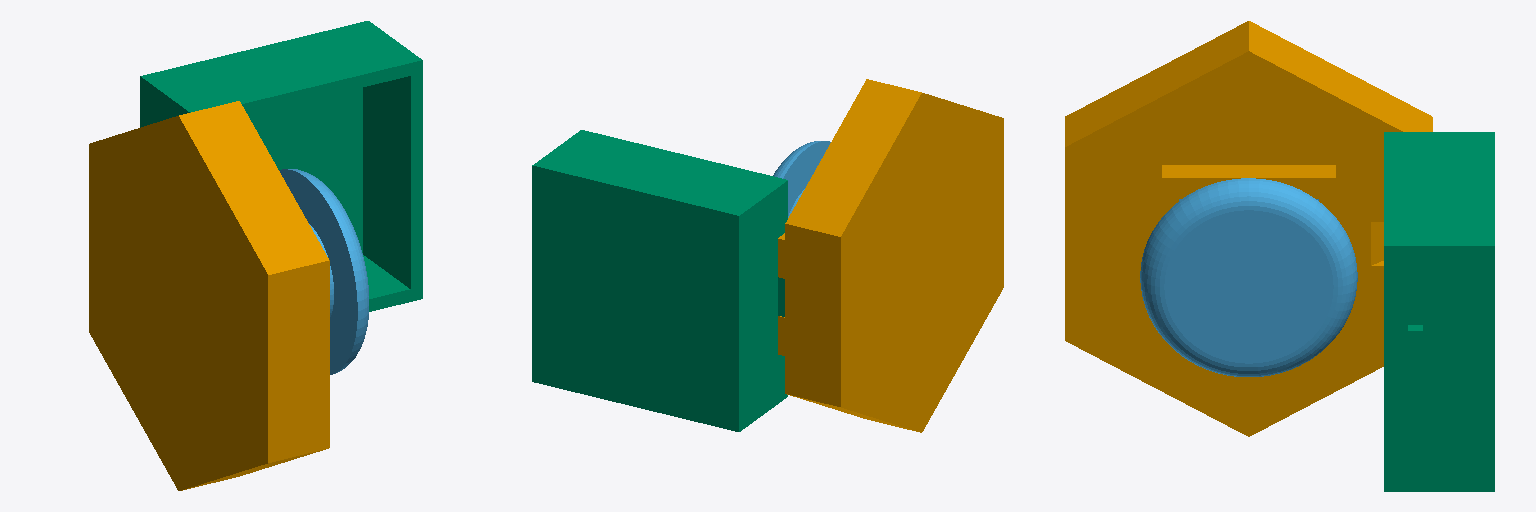
The robot description file, URDF, robot "Button_Assembly":
<?xml version='1.0' encoding='utf-8'?>
<robot name="Button_Assembly">
  <joint name="PrismaticJoint" type="prismatic">
    <origin xyz="-0. 0. -0." rpy="0. -0. -0." />
    <parent link="World" />
    <child link="button_pivot" />
    <axis xyz="1. 0. 0." />
    <limit lower="-0.01" upper="0." effort="100.0" velocity="1.0" />
  </joint>
  <joint name="RevoluteJoint" type="revolute">
    <origin xyz="-0.0034325 0.0304632 0. " rpy="0. 0.0000001 0. " />
    <parent link="World" />
    <child link="lid_pivot" />
    <axis xyz="0. 0. 1." />
    <limit lower="-1.5707963" upper="0.6981317" effort="100.0" velocity="10.0" />
  </joint>
  <link name="World">
    <inertial><origin xyz="0.000000 0.000000 0.010500" rpy="0 0 0" /><mass value="0.1412" /><inertia ixx="7.36627e-05" ixy="0" ixz="0" iyy="9.64878e-05" iyz="0" izz="0.000159776" /></inertial><visual>
      <origin xyz="-0.0209518 -0. 0. " rpy="0. 1.5707964 0. " />
      <geometry>
        <mesh filename="meshes/tn__corpo1_dC_Corpo1_Mesh.obj" scale="1. 1. 1." />
      </geometry>
    </visual>
    <collision>
      <origin xyz="-0.0209518 -0. 0. " rpy="0. 1.5707964 0. " />
      <geometry>
        <mesh filename="meshes/tn__corpo1_dC_Corpo1_Mesh.obj" scale="1. 1. 1." />
      </geometry>
    </collision>
  </link>
  <link name="button_pivot">
    <inertial><origin xyz="0.000000 0.000000 0.005700" rpy="0 0 0" /><mass value="0.0377" /><inertia ixx="7.44185e-06" ixy="0" ixz="0" iyy="7.44185e-06" iyz="0" izz="1.27119e-05" /></inertial><visual>
      <origin xyz="0. 0. 0." rpy="0. 1.5707964 0. " />
      <geometry>
        <mesh filename="meshes/tn__botao1_dC_Corpo1_Mesh.obj" scale="1. 1. 1." />
      </geometry>
    </visual>
    <collision>
      <origin xyz="0. 0. 0." rpy="0. 1.5707964 0. " />
      <geometry>
        <mesh filename="meshes/tn__botao1_dC_Corpo1_Mesh.obj" scale="1. 1. 1." />
      </geometry>
    </collision>
  </link>
  <link name="lid_pivot">
    <inertial><origin xyz="0.025000 0.024000 -0.008500" rpy="0 0 0" /><mass value="0.0824" /><inertia ixx="3.17707e-05" ixy="0" ixz="0" iyy="2.51761e-05" iyz="0" izz="4.9679e-05" /></inertial><visual>
      <origin xyz="0.0055156 0.0175212 -0.0249821" rpy="-1.5707964 -1.5707964 0. " />
      <geometry>
        <mesh filename="meshes/tn__Tampa1_dC_Corpo1_Mesh.obj" scale="1. 1. 1." />
      </geometry>
    </visual>
    <collision>
      <origin xyz="0.0055156 0.0175212 -0.0249821" rpy="-1.5707964 -1.5707964 0. " />
      <geometry>
        <mesh filename="meshes/tn__Tampa1_dC_Corpo1_Mesh.obj" scale="1. 1. 1." />
      </geometry>
    </collision>
  </link>
</robot>

--- Render facts (derived) ---
Views: 3 orthographic renders of the robot side by side, from view 1: azimuth 30°, elevation 25°; view 2: azimuth 150°, elevation 25°; view 3: azimuth 270°, elevation 25°.
Model Button_Assembly with 3 links and 2 joints (1 revolute, 1 prismatic), rooted at World, posed all joints at 0.
Visible links, largest first — view 1: World, lid_pivot, button_pivot; view 2: lid_pivot, World, button_pivot; view 3: World, lid_pivot, button_pivot.
Link boxes in pixels (bbox=[...]): World: bbox=[89, 101, 329, 490]; lid_pivot: bbox=[140, 21, 422, 311]; button_pivot: bbox=[279, 169, 368, 374]; lid_pivot: bbox=[532, 130, 787, 431]; World: bbox=[778, 79, 1003, 432]; button_pivot: bbox=[773, 141, 830, 217]; World: bbox=[1065, 21, 1432, 436]; lid_pivot: bbox=[1384, 132, 1494, 491]; button_pivot: bbox=[1140, 178, 1357, 376].
Bounding box of the posed robot: 0.079 × 0.0891 × 0.0881 m (x, y, z).
3 mesh visuals loaded from 3 distinct referenced files (3 OBJ).
